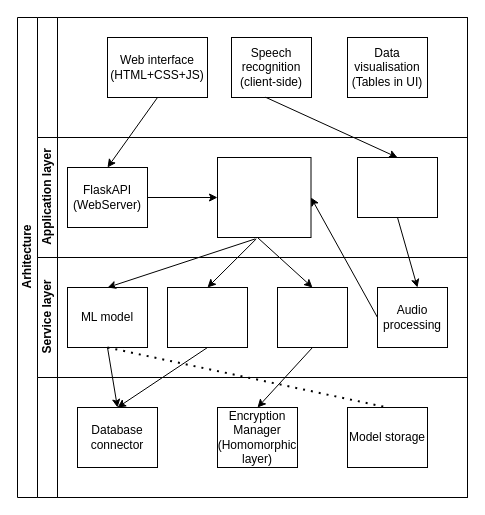
The diagram is 485 pixels wide and 515 high, and some of its shapes have lost their labels. Each missing label, with the box of its shape:
Chatbot engine (core processing and generating user response): (216, 156, 311, 238)
Infrastructure layer: (36, 376, 468, 498)
Intent processor: (276, 286, 348, 348)
NL to SQL processor: (166, 286, 248, 348)
Presentation layer: (36, 16, 468, 138)
Speech API: (356, 156, 438, 218)
